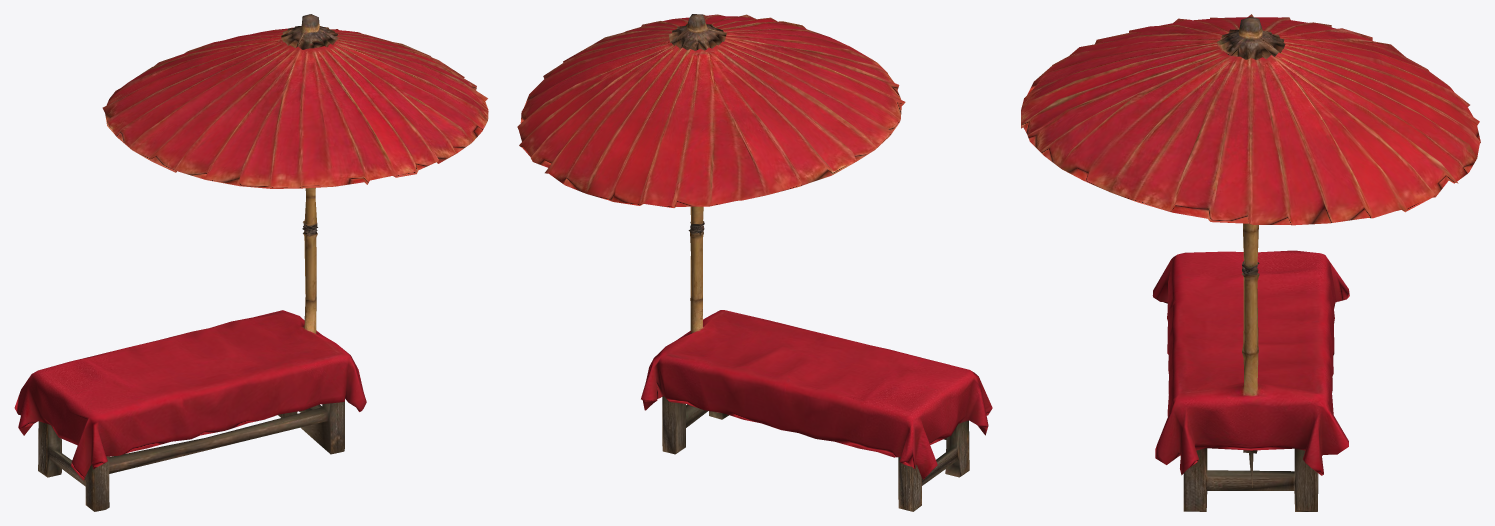
The model's file is tea_bench.glb.
The picture shows the model from 3 angles, left to right: view 1: azimuth 30°, elevation 25°; view 2: azimuth 150°, elevation 25°; view 3: azimuth 270°, elevation 25°; orthographic projection. The views are drawn at different scales.
Parts seen in each view (by area): view 1: red bamboo parasol 3d model; view 2: red bamboo parasol 3d model; view 3: red bamboo parasol 3d model.
Boxes of the visible parts, x1,y1,x2,y2 form: red bamboo parasol 3d model: [14, 14, 488, 511]; red bamboo parasol 3d model: [517, 14, 992, 511]; red bamboo parasol 3d model: [1021, 14, 1480, 511].
Bounding box in the file's own units: 2.85 × 2.7 × 2.3.
1 material, 1 textured.
